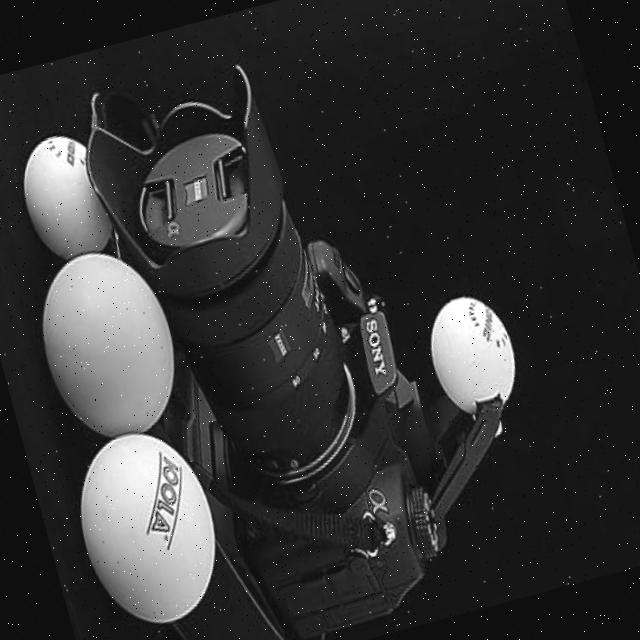ping-pong-ball: (58, 416, 236, 640), (20, 238, 192, 454), (10, 130, 124, 268), (416, 289, 526, 424)
